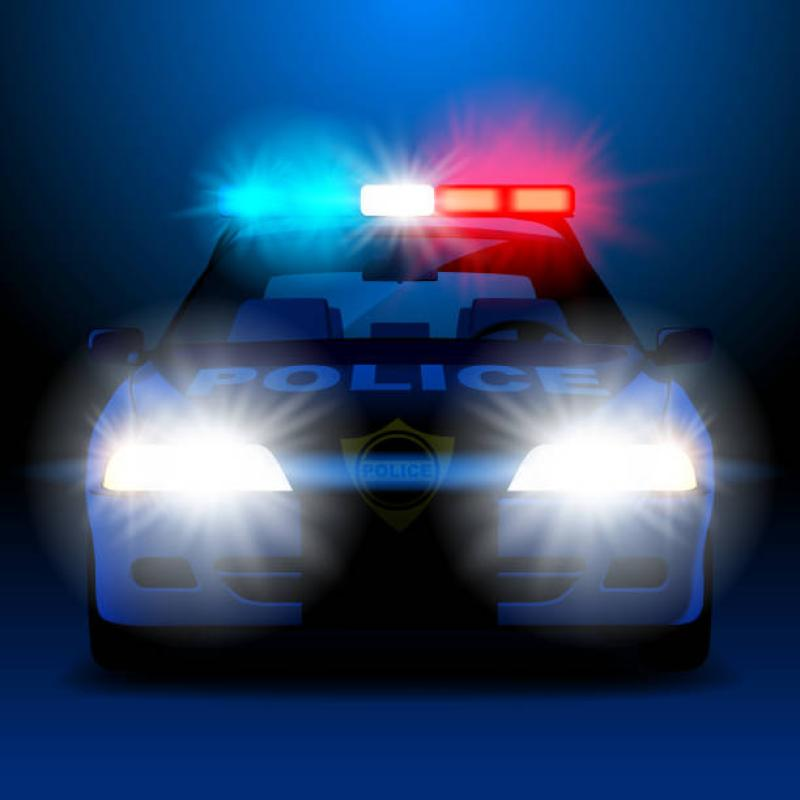AmbulanceSiren: (198, 154, 592, 234)
